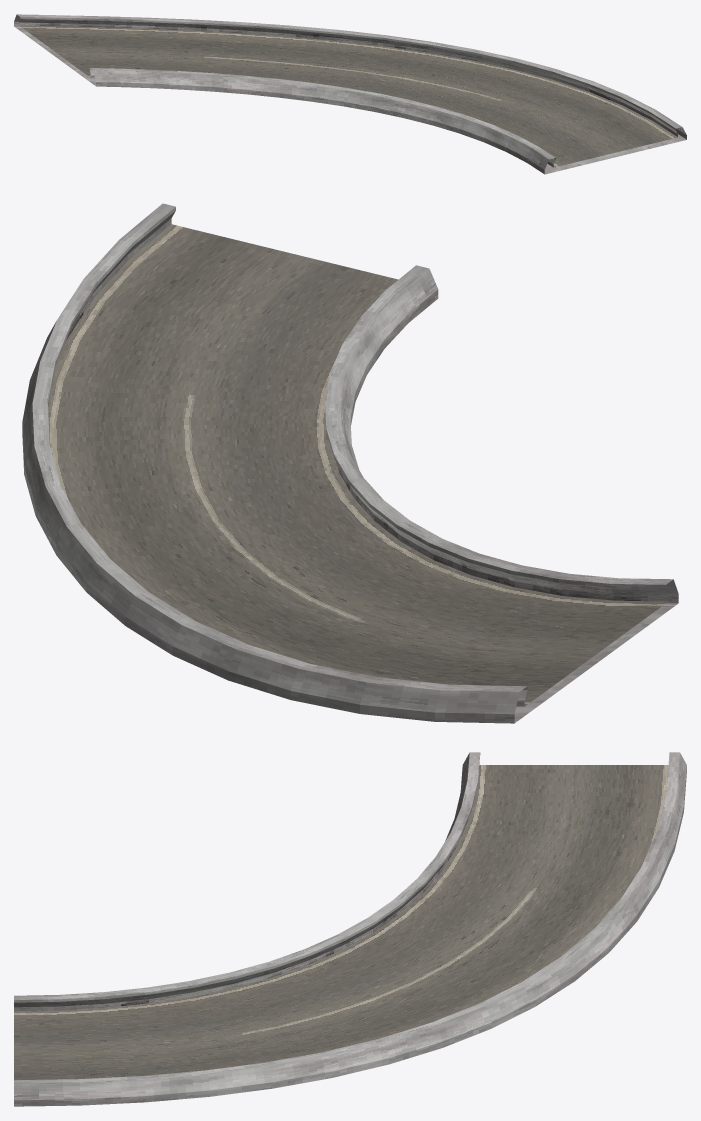
The model's file is turn-left3x3.glb.
3 views of the same model, one above another, from view 1: azimuth 30°, elevation 25°; view 2: azimuth 150°, elevation 25°; view 3: azimuth 270°, elevation 25° (orthographic). The views are drawn at different scales.
Visible parts, largest first — view 1: road-Turn-Flat-BiSlopeUp-Up1-Left-Size3; view 2: road-Turn-Flat-BiSlopeUp-Up1-Left-Size3; view 3: road-Turn-Flat-BiSlopeUp-Up1-Left-Size3.
Boxes of the visible parts, <box> form: road-Turn-Flat-BiSlopeUp-Up1-Left-Size3: <box>14,14,686,174</box>; road-Turn-Flat-BiSlopeUp-Up1-Left-Size3: <box>22,203,678,723</box>; road-Turn-Flat-BiSlopeUp-Up1-Left-Size3: <box>14,752,686,1106</box>.
Bounding box in the file's own units: 3 × 0.3758 × 3.
Materials: 2 (2 with a texture image).
